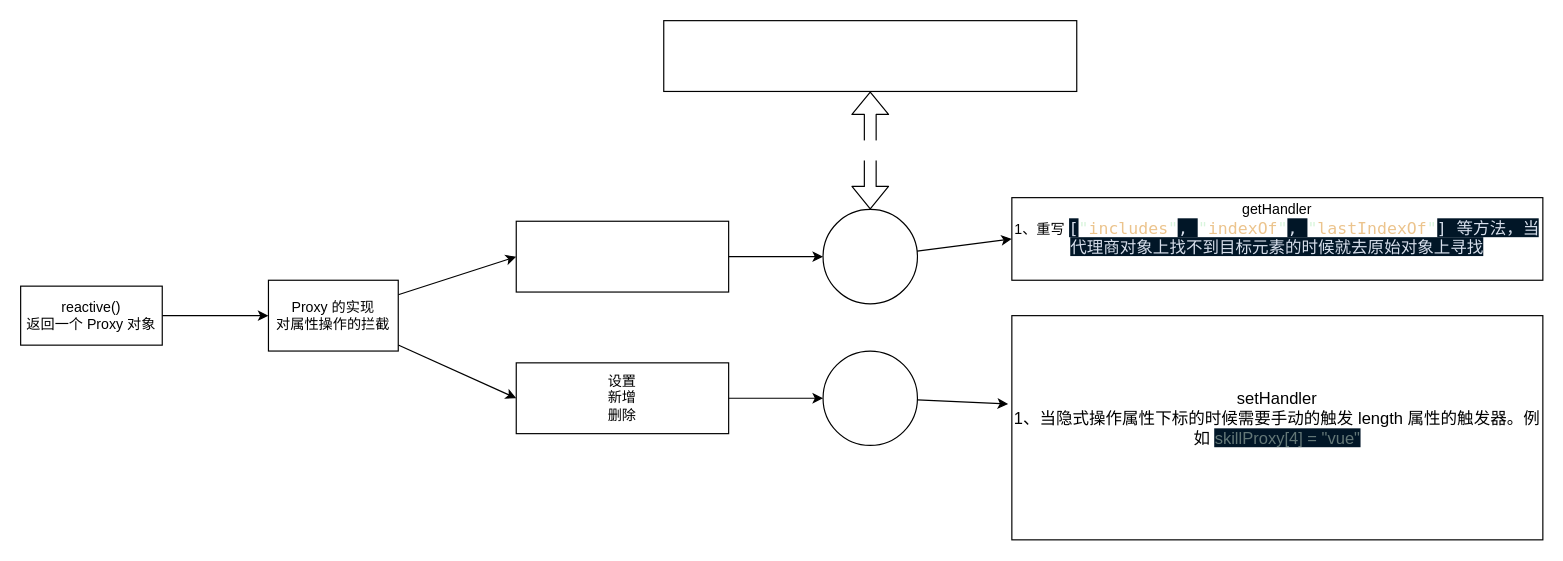
Some shapes in this 1563 by 561 pixel diagram are drawn without their labels. The shapes that lost their labels are listed below. From the top down, each one's centre as x and y in pixels, then its label:
[622,256]: 读取（递归调用 reactive()） in 操作符 对象遍历
[869,256]: 收集器
[869,397]: 触发器
